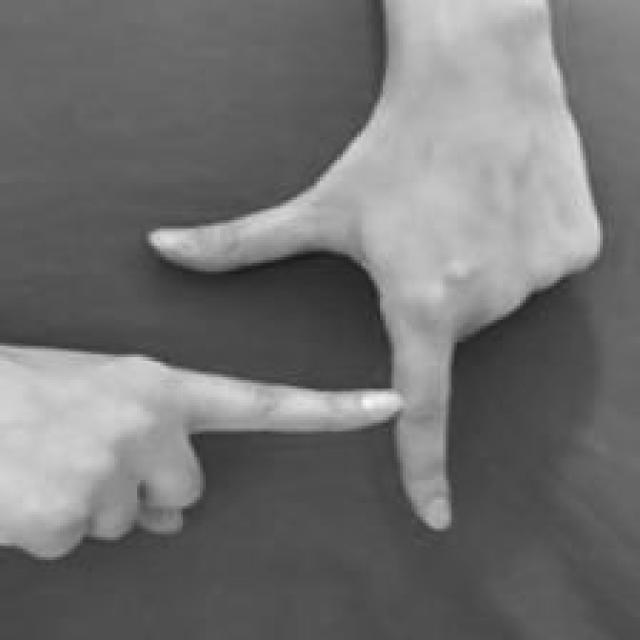F: (0, 95, 604, 573)
